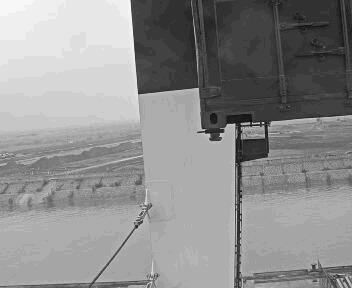twist_lock_1: (223, 124, 245, 142)
